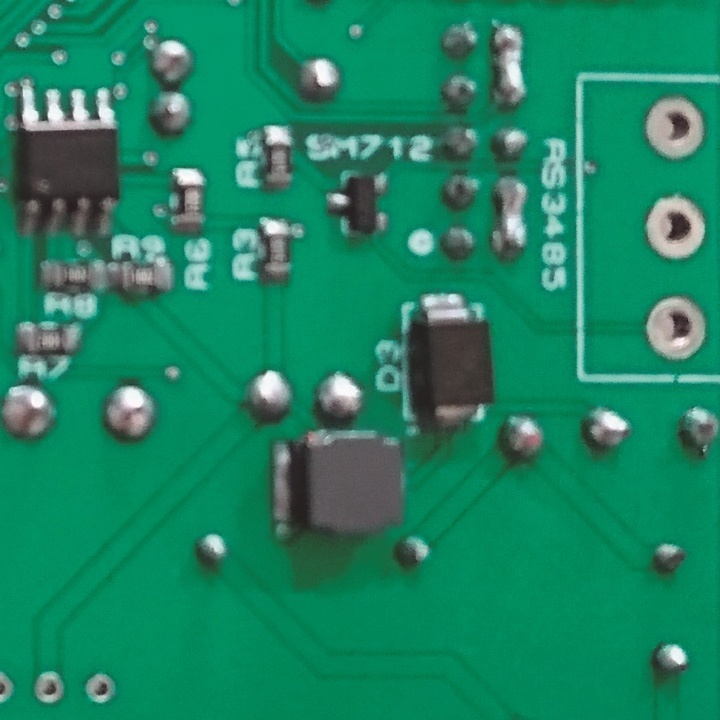F: (644, 292, 707, 364), (644, 93, 708, 163), (643, 195, 707, 260), (81, 669, 118, 708), (32, 671, 67, 706), (1, 671, 18, 709)
P: (491, 22, 527, 107), (491, 174, 527, 258)
